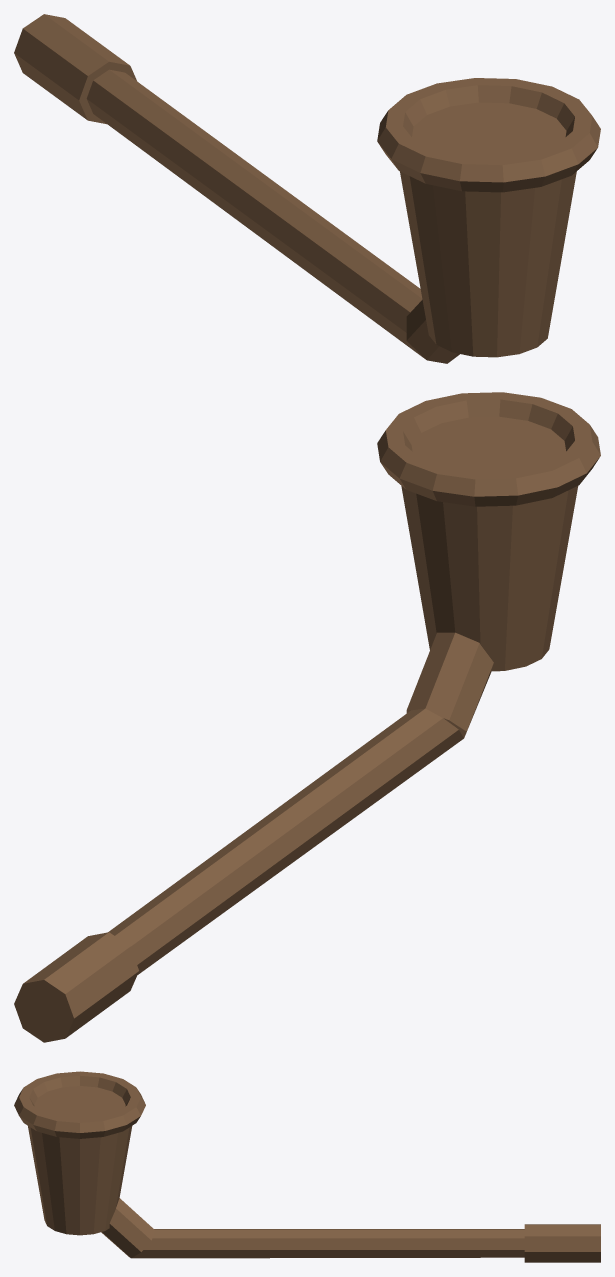
The model's file is pipe.glb.
3 views of the same model, one above another, from view 1: azimuth 30°, elevation 25°; view 2: azimuth 150°, elevation 25°; view 3: azimuth 270°, elevation 25° (orthographic). The views are drawn at different scales.
Parts seen in each view (by area): view 1: pipe; view 2: pipe; view 3: pipe.
Boxes of the visible parts, box(x1,y1,x2,y2) form: pipe: box(14, 14, 600, 363); pipe: box(14, 392, 600, 1042); pipe: box(14, 1071, 600, 1262).
Size of the model in its own units: 0.026 by 0.0357 by 0.1155.
